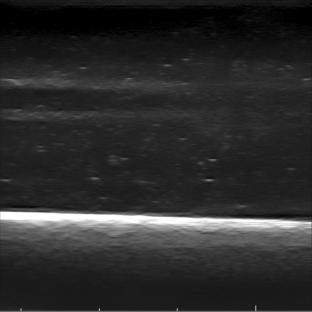vessel: (0, 74, 128, 121)
